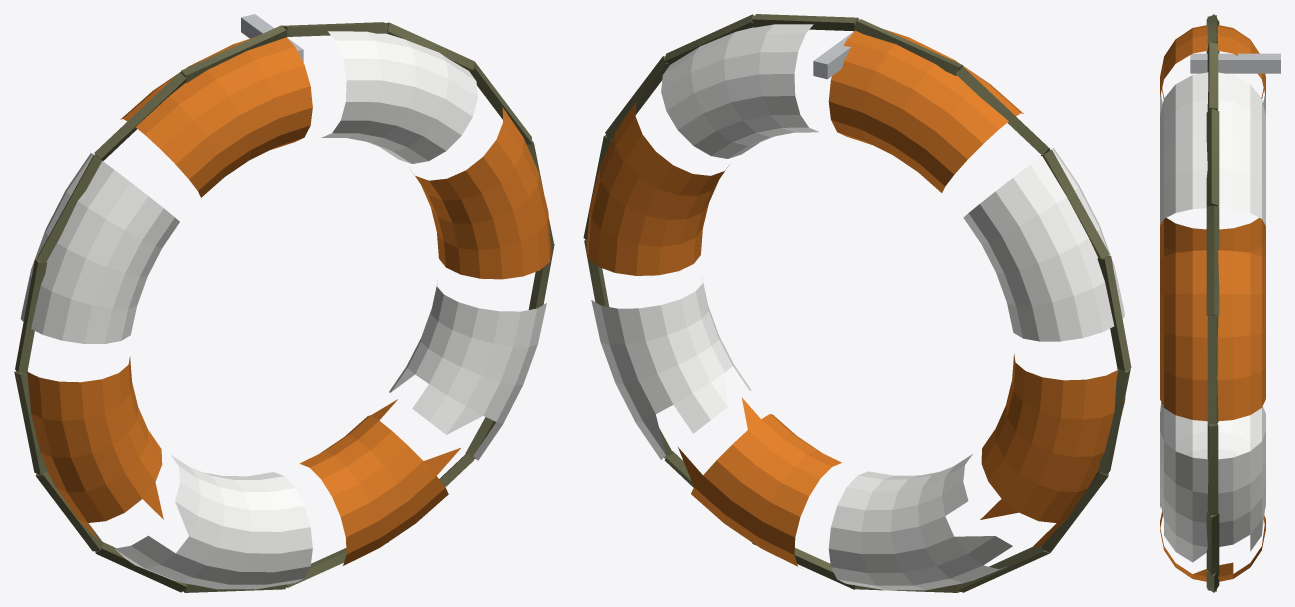
Rendered from boia_salva_vidas.glb.
The picture shows the model from 3 angles, left to right: view 1: azimuth 30°, elevation 25°; view 2: azimuth 150°, elevation 25°; view 3: azimuth 270°, elevation 25°; orthographic projection. The views are drawn at different scales.
Visible parts, largest first — view 1: boia_salva_vidas_plastico_branco, boia_salva_vidas_laranja_boia, boia_salva_vidas_lona; view 2: boia_salva_vidas_plastico_branco, boia_salva_vidas_laranja_boia, boia_salva_vidas_lona, boia_salva_vidas_aco; view 3: boia_salva_vidas_plastico_branco, boia_salva_vidas_laranja_boia, boia_salva_vidas_lona, boia_salva_vidas_aco.
Part boxes in pixels (x1,y1,x2,y2): boia_salva_vidas_plastico_branco: (20, 31, 546, 589); boia_salva_vidas_laranja_boia: (27, 37, 551, 566); boia_salva_vidas_lona: (14, 22, 554, 592); boia_salva_vidas_plastico_branco: (591, 24, 1124, 590); boia_salva_vidas_laranja_boia: (586, 29, 1125, 566); boia_salva_vidas_lona: (583, 14, 1131, 592); boia_salva_vidas_aco: (813, 31, 854, 79); boia_salva_vidas_plastico_branco: (1160, 72, 1265, 562); boia_salva_vidas_laranja_boia: (1160, 25, 1265, 581); boia_salva_vidas_lona: (1206, 14, 1219, 592); boia_salva_vidas_aco: (1190, 53, 1280, 73).
Bounding box in the file's own units: 0.7638 × 0.7638 × 0.16.
4 materials, 1 textured.
